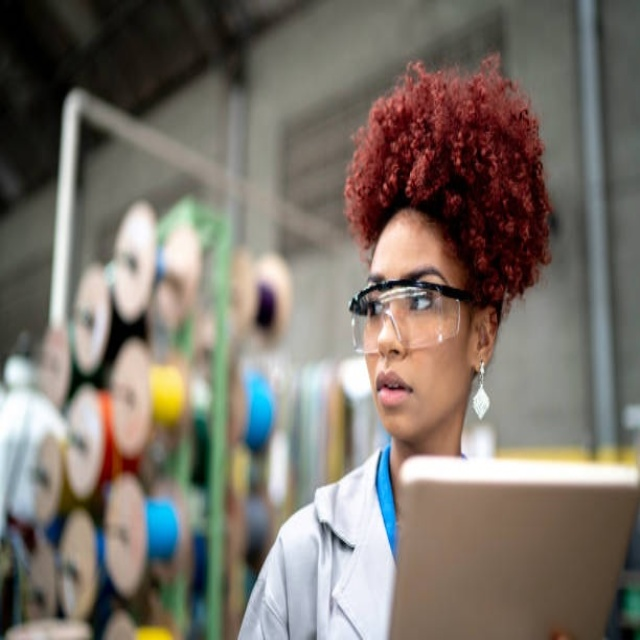Gafas: (346, 282, 470, 357)
Sin_mascara: (370, 367, 427, 430)
